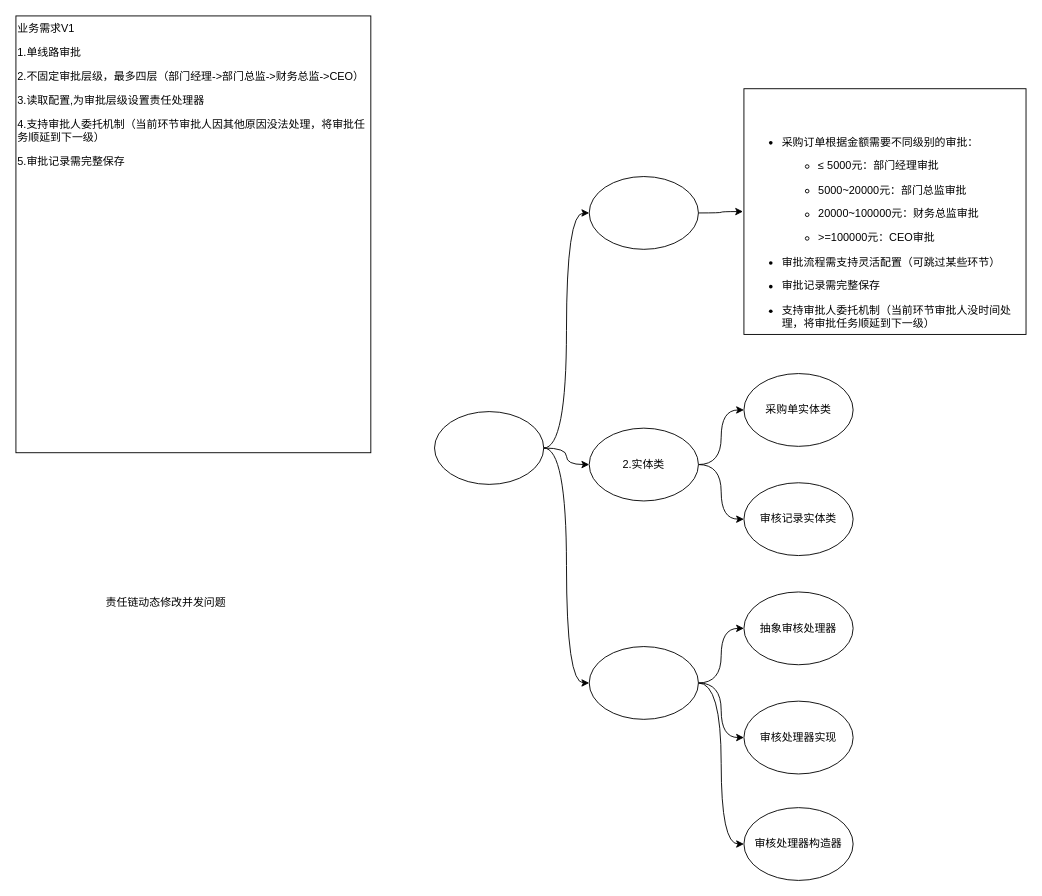
Some shapes in this 1042 by 896 pixel diagram are drawn without their labels. Each missing label, with the box of its shape:
1.业务需求: (588, 176, 698, 249)
3.审核处理器: (588, 646, 698, 719)
采购单审核: (434, 411, 544, 484)
